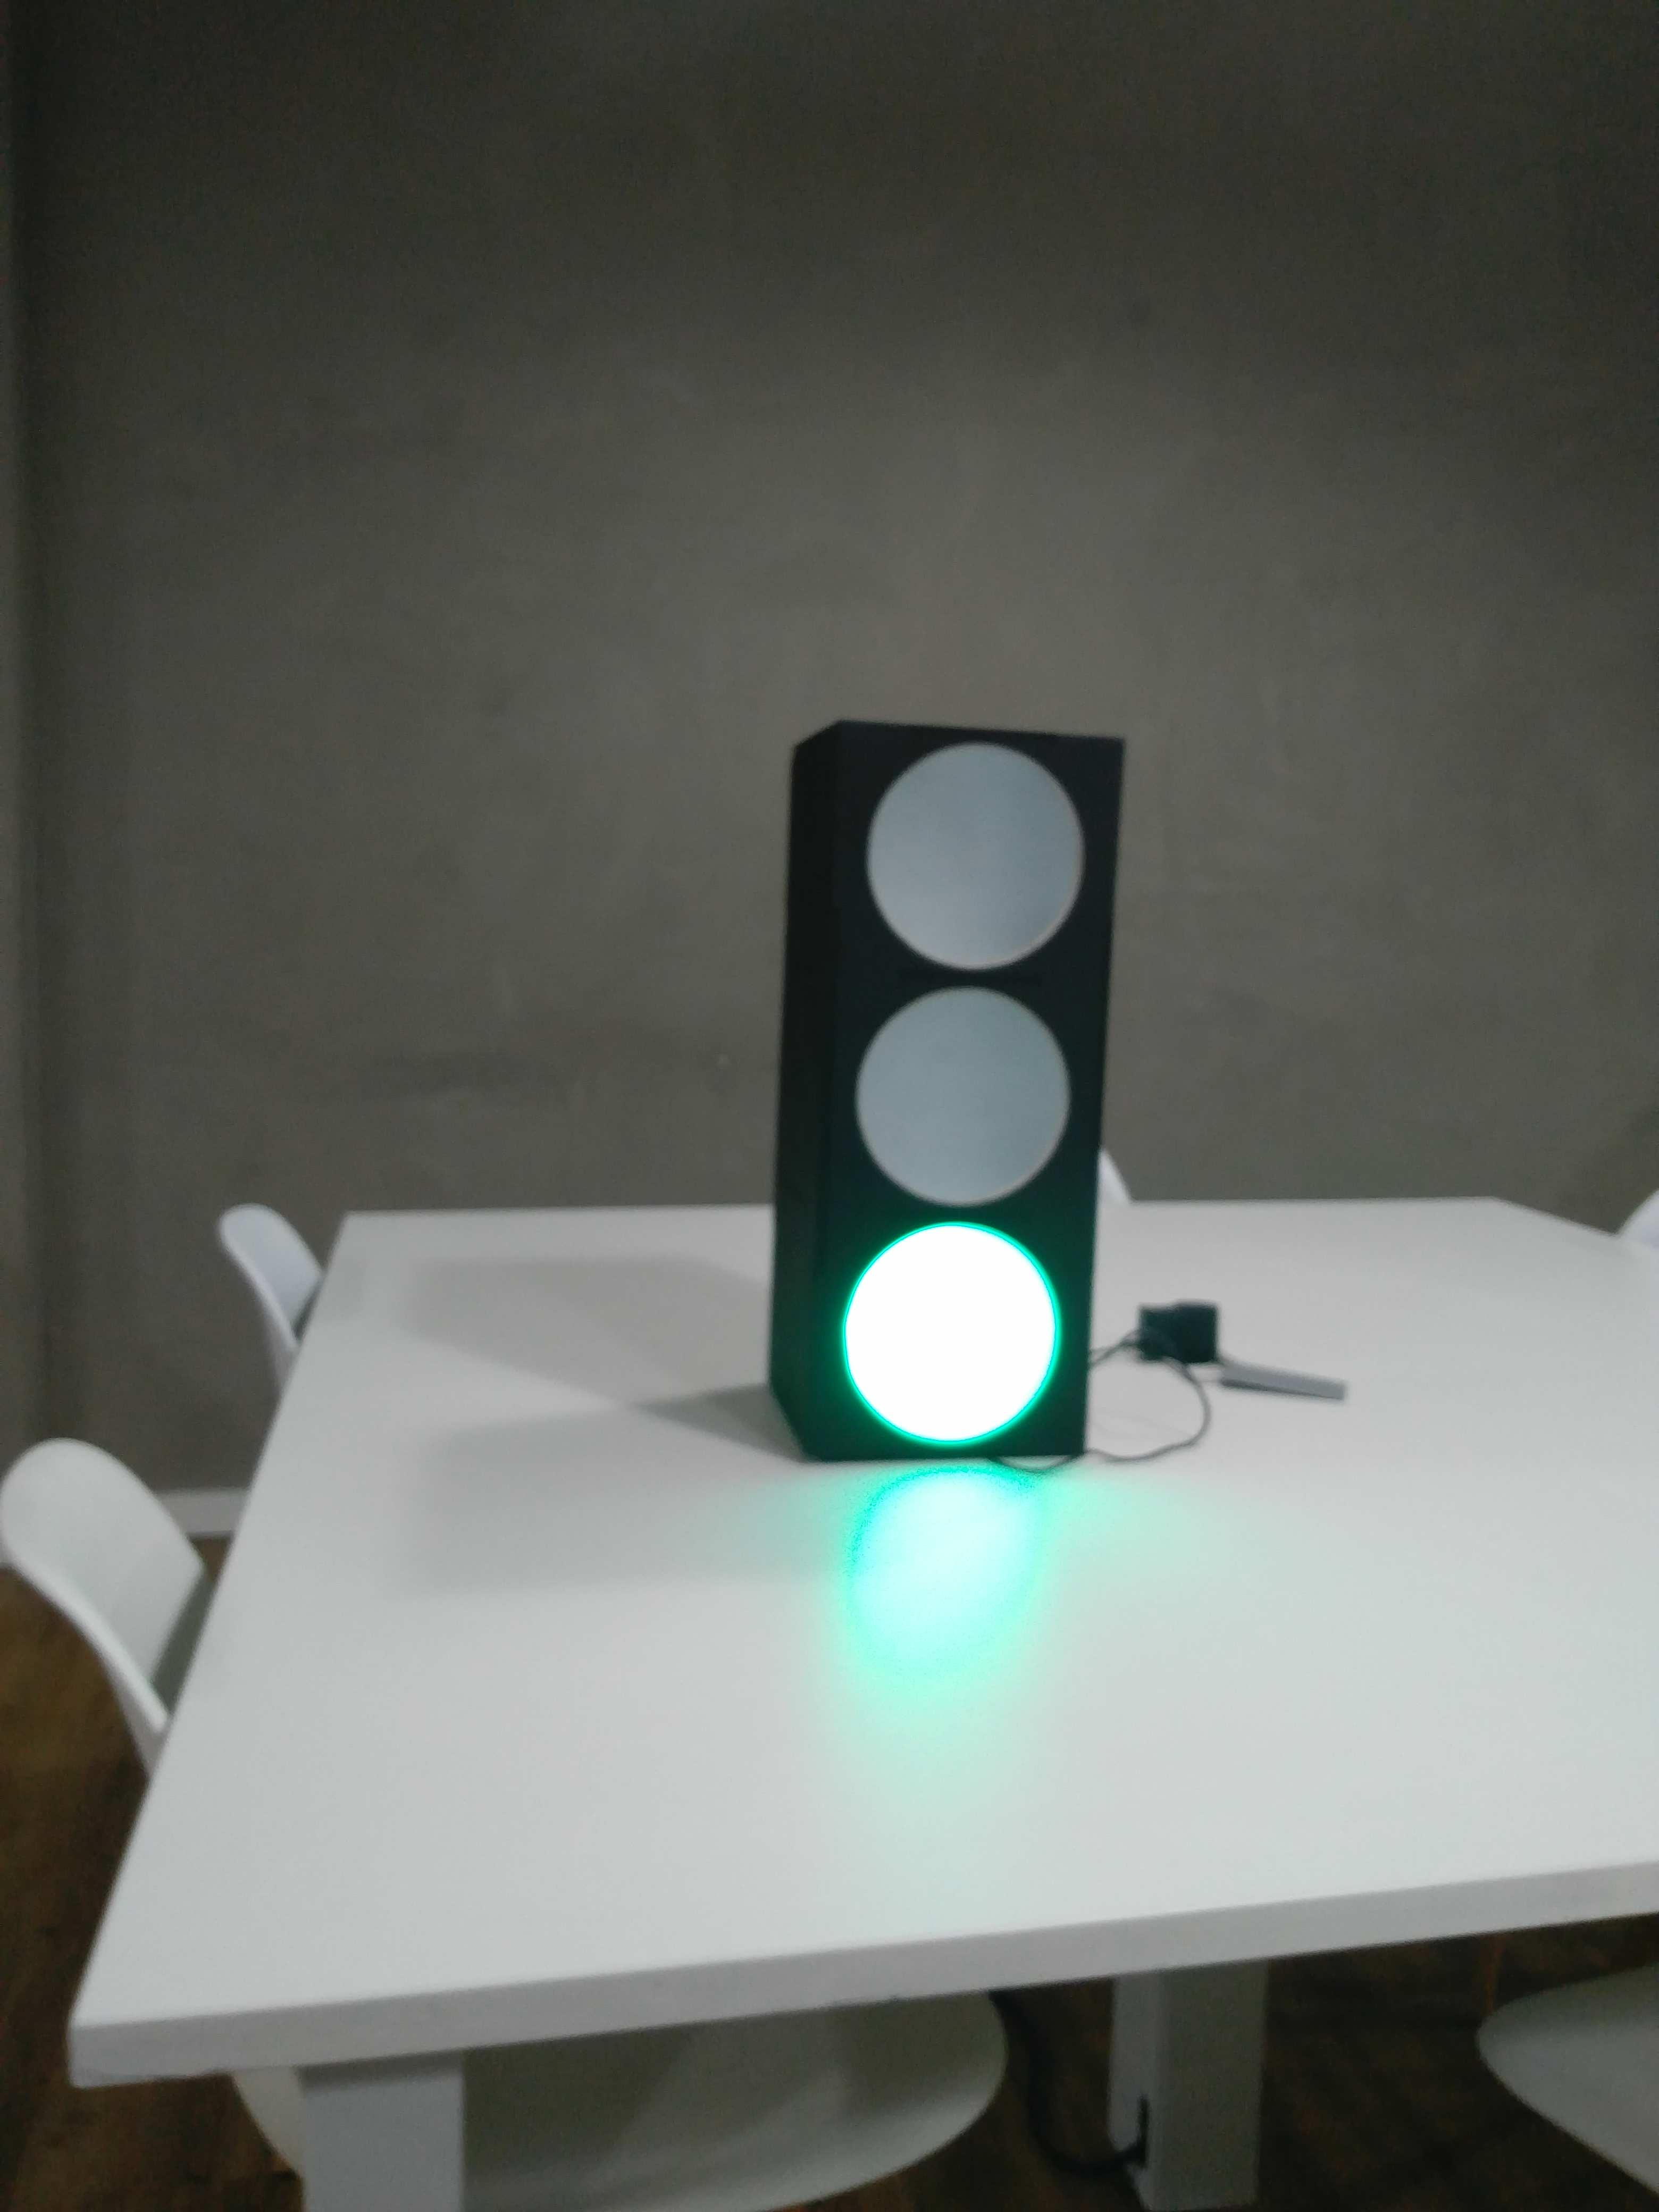go: (762, 719, 1136, 1475)
